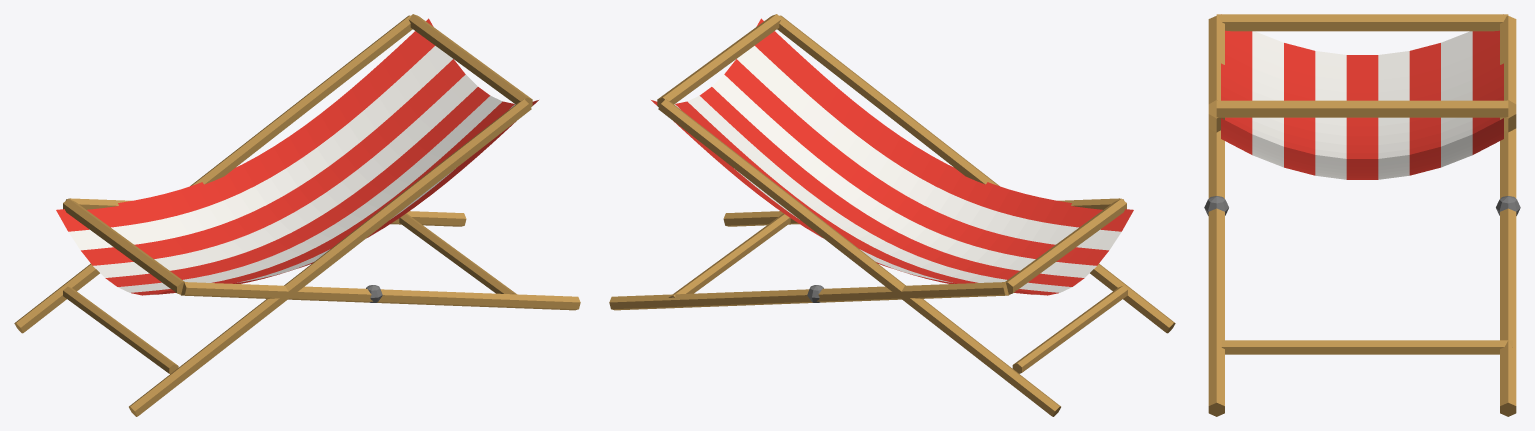
File: sillaPLAYA.glb
The picture shows the model from 3 angles, left to right: view 1: azimuth 30°, elevation 25°; view 2: azimuth 150°, elevation 25°; view 3: azimuth 270°, elevation 25°; orthographic projection. The views are drawn at different scales.
Visible parts, largest first — view 1: Tela_Asiento, Pata_B, Pata_A, Pata_B.001, Riel_Trasero, Riel_Frontal, Barra_Soporte.002, Barra_Soporte, Pata_A.001; view 2: Tela_Asiento, Pata_B.001, Pata_A.001, Pata_B, Riel_Trasero, Riel_Frontal, Barra_Soporte.002, Barra_Soporte, Pata_A; view 3: Tela_Asiento, Pata_A, Pata_A.001, Riel_Frontal, Riel_Trasero, Barra_Soporte, Pata_B, Pata_B.001, Tornillo_Pivote, Tornillo_Pivote.001.
Boxes of the visible parts, left/top/right/bottom form: Tela_Asiento: left=56, top=18, right=538, bottom=295; Pata_B: left=129, top=99, right=531, bottom=416; Pata_A: left=181, top=282, right=580, bottom=310; Pata_B.001: left=14, top=15, right=412, bottom=333; Riel_Trasero: left=63, top=198, right=184, bottom=294; Riel_Frontal: left=408, top=14, right=532, bottom=107; Barra_Soporte.002: left=63, top=286, right=178, bottom=373; Barra_Soporte: left=399, top=213, right=516, bottom=294; Pata_A.001: left=66, top=198, right=466, bottom=226; Tela_Asiento: left=651, top=18, right=1133, bottom=295; Pata_B.001: left=658, top=99, right=1060, bottom=416; Pata_A.001: left=609, top=282, right=1008, bottom=310; Pata_B: left=777, top=15, right=1175, bottom=333; Riel_Trasero: left=1005, top=198, right=1126, bottom=294; Riel_Frontal: left=657, top=14, right=781, bottom=107; Barra_Soporte.002: left=1012, top=285, right=1127, bottom=373; Barra_Soporte: left=668, top=213, right=790, bottom=297; Pata_A: left=723, top=198, right=1123, bottom=226; Tela_Asiento: left=1221, top=30, right=1503, bottom=179; Pata_A: left=1208, top=15, right=1224, bottom=416; Pata_A.001: left=1500, top=15, right=1516, bottom=416; Riel_Frontal: left=1216, top=100, right=1508, bottom=117; Riel_Trasero: left=1216, top=14, right=1508, bottom=31; Barra_Soporte: left=1221, top=340, right=1512, bottom=354; Pata_B: left=1208, top=100, right=1224, bottom=132; Pata_B.001: left=1500, top=100, right=1516, bottom=132; Tornillo_Pivote: left=1204, top=196, right=1228, bottom=215; Tornillo_Pivote.001: left=1496, top=196, right=1520, bottom=215.
Bounding box in the file's own units: 5.08 × 2.43 × 2.43.
